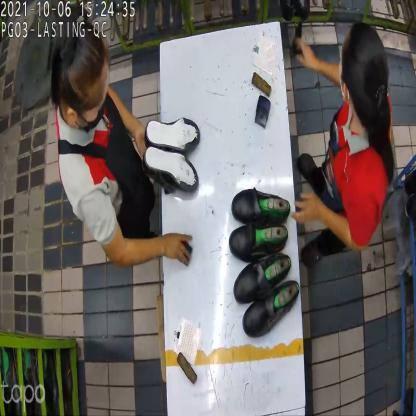shoes: (226, 252, 300, 334), (144, 116, 201, 194), (230, 183, 293, 251)
stamp: (173, 229, 194, 269), (253, 95, 274, 131)
